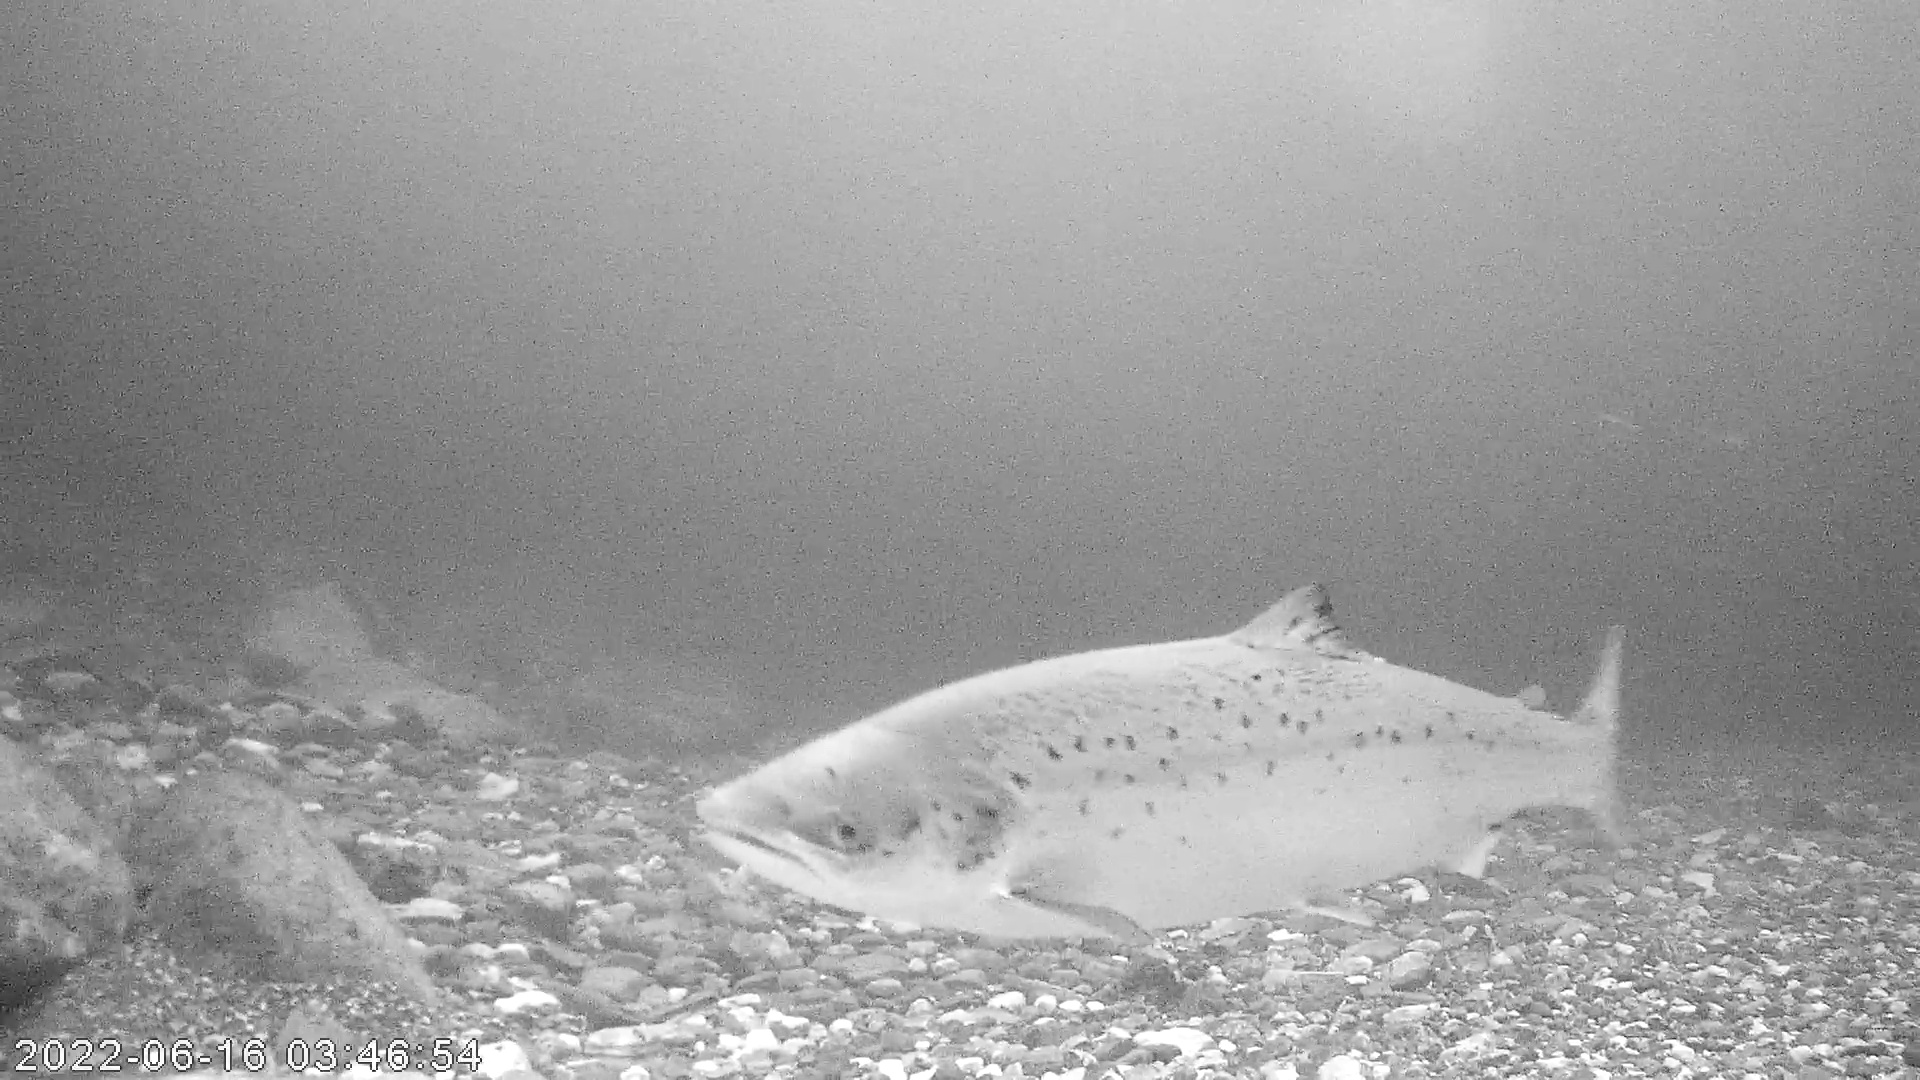salmon: (691, 578, 1644, 945)
